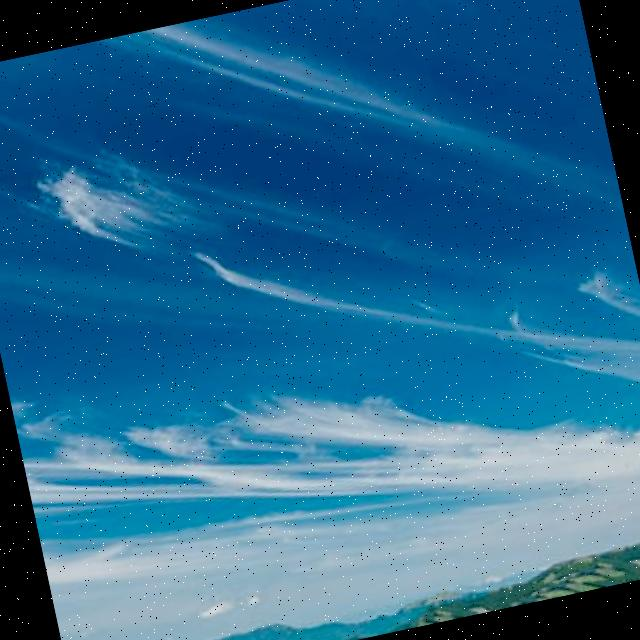Ci: (1, 1, 640, 579)
